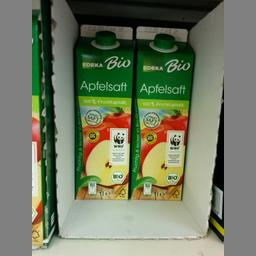juice: (129, 24, 193, 201), (73, 23, 135, 201)
